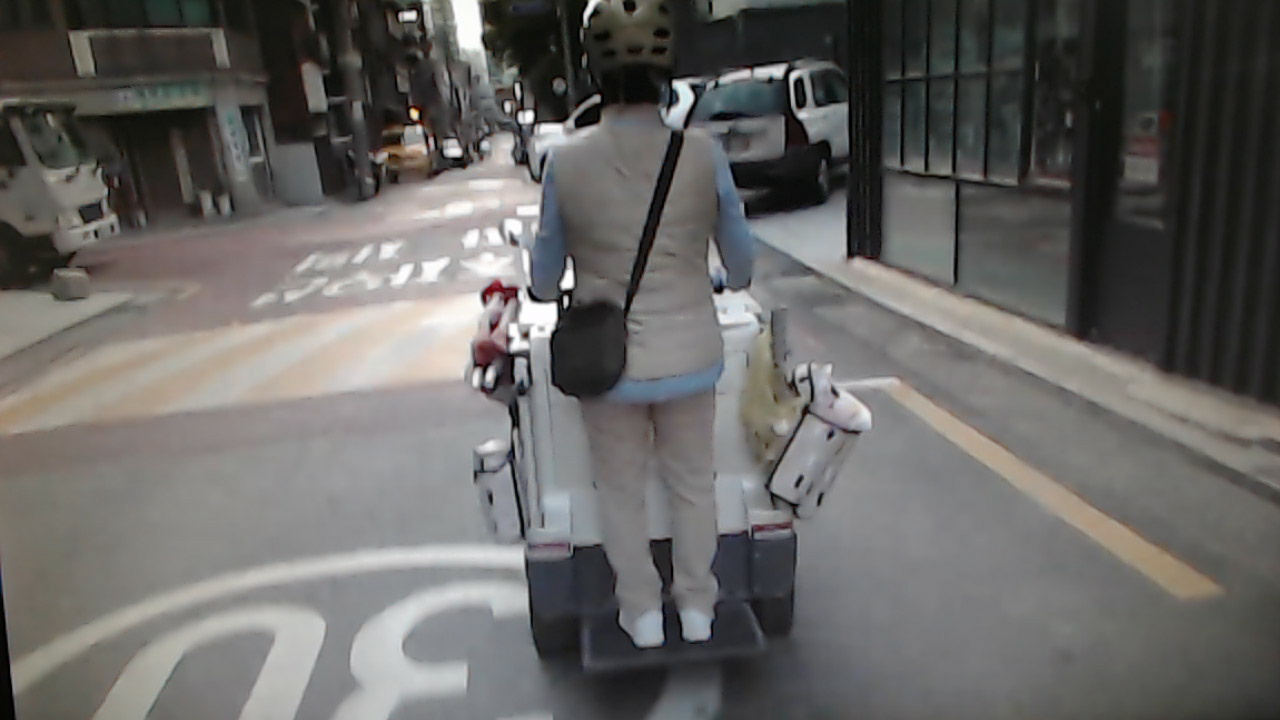Yakurut: (523, 4, 771, 654)
